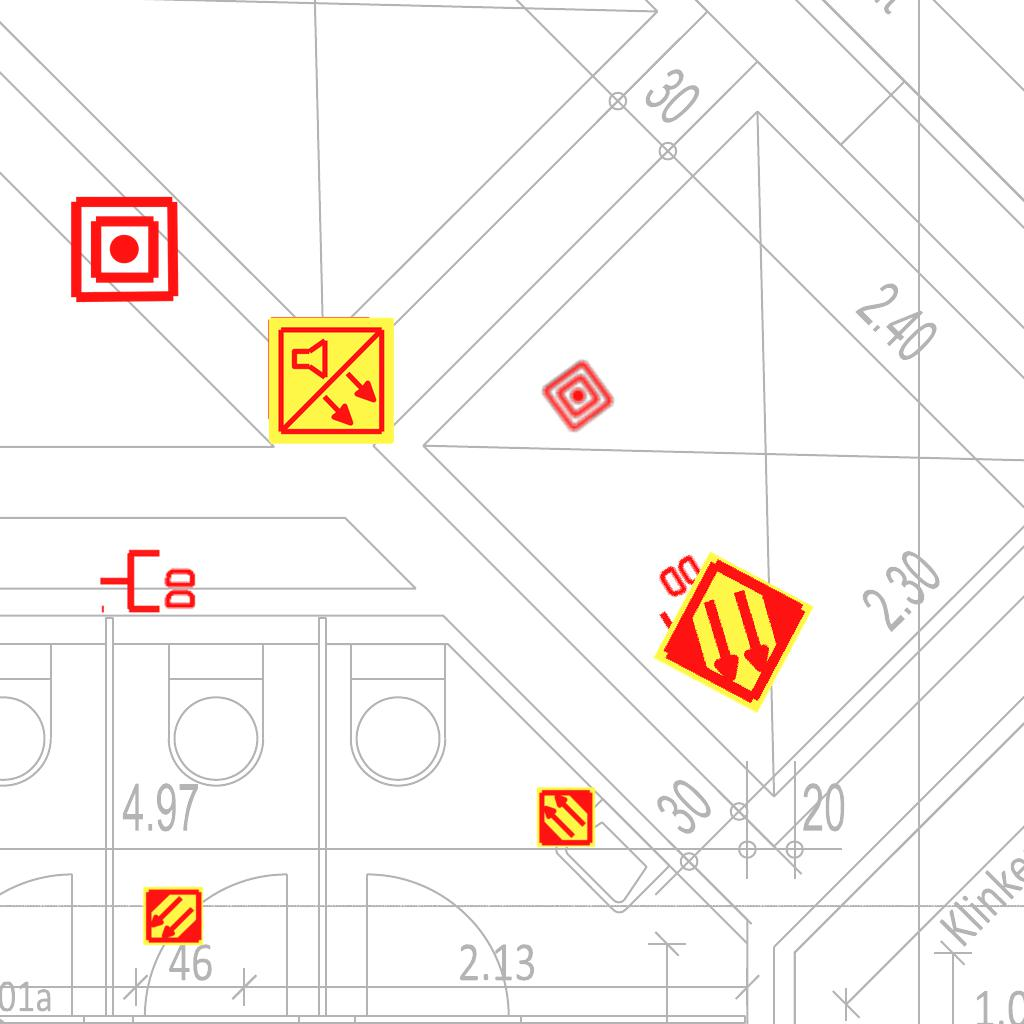ASR_Ansaugrauchmelder: (648, 547, 819, 718), (535, 786, 597, 848), (142, 885, 204, 947)
Datenanschluss_zweifach: (633, 546, 748, 671), (97, 545, 200, 614)
NAM-Nichtautomatischer_Melder: (68, 193, 181, 306), (538, 356, 618, 436)
OKW_Multisensormelder_(Kombination_optischer_Rauch-Kahlenmonoxid_Waerme-Melder): (265, 315, 397, 447)
